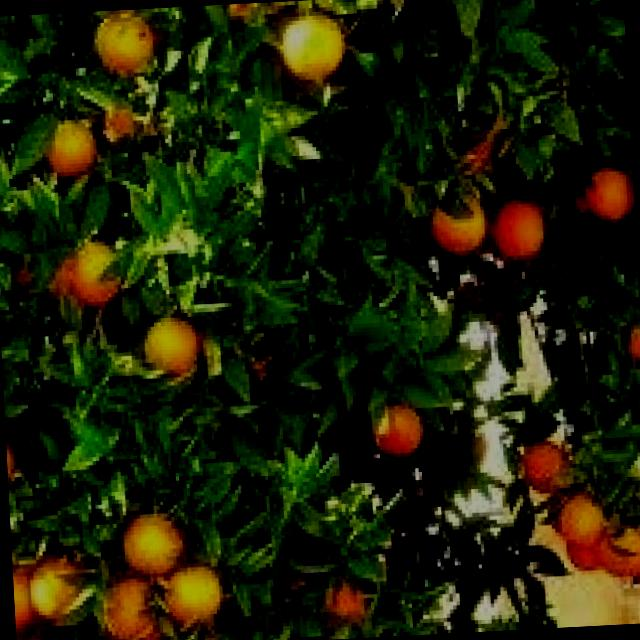Orange: (420, 165, 500, 269), (22, 532, 108, 628), (264, 2, 347, 86), (476, 190, 558, 274), (125, 304, 208, 380), (50, 228, 126, 308), (112, 504, 192, 580), (26, 110, 106, 182), (150, 562, 228, 634), (304, 550, 366, 634), (357, 384, 428, 456), (92, 10, 160, 81), (585, 500, 640, 587), (509, 424, 574, 495), (95, 569, 156, 640), (553, 478, 608, 548), (80, 89, 138, 152), (574, 158, 632, 221), (602, 310, 640, 368)
